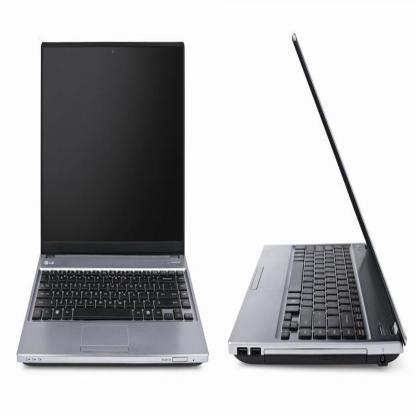board: (12, 30, 216, 359), (228, 34, 408, 368)
